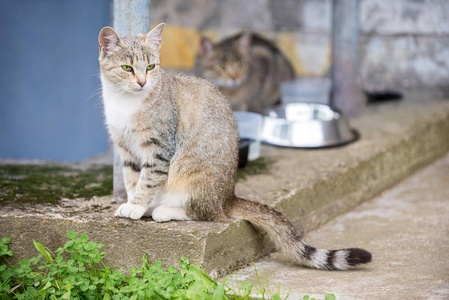cat: (98, 22, 373, 271), (194, 30, 295, 113)
